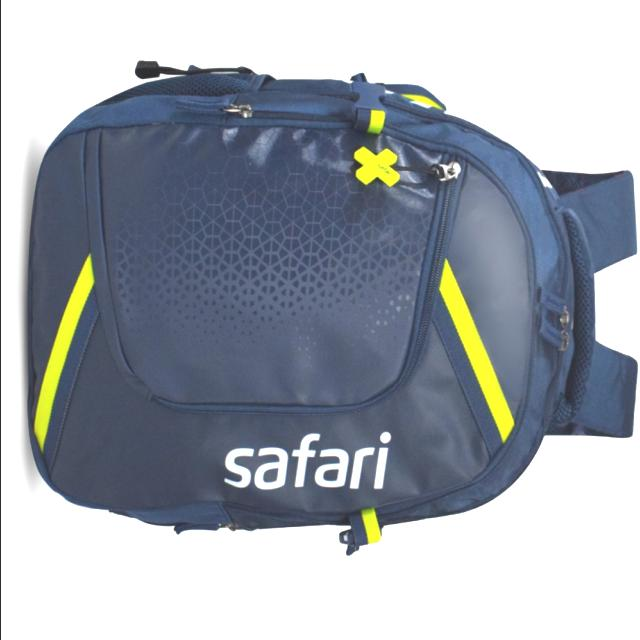backpack: (26, 60, 640, 556)
